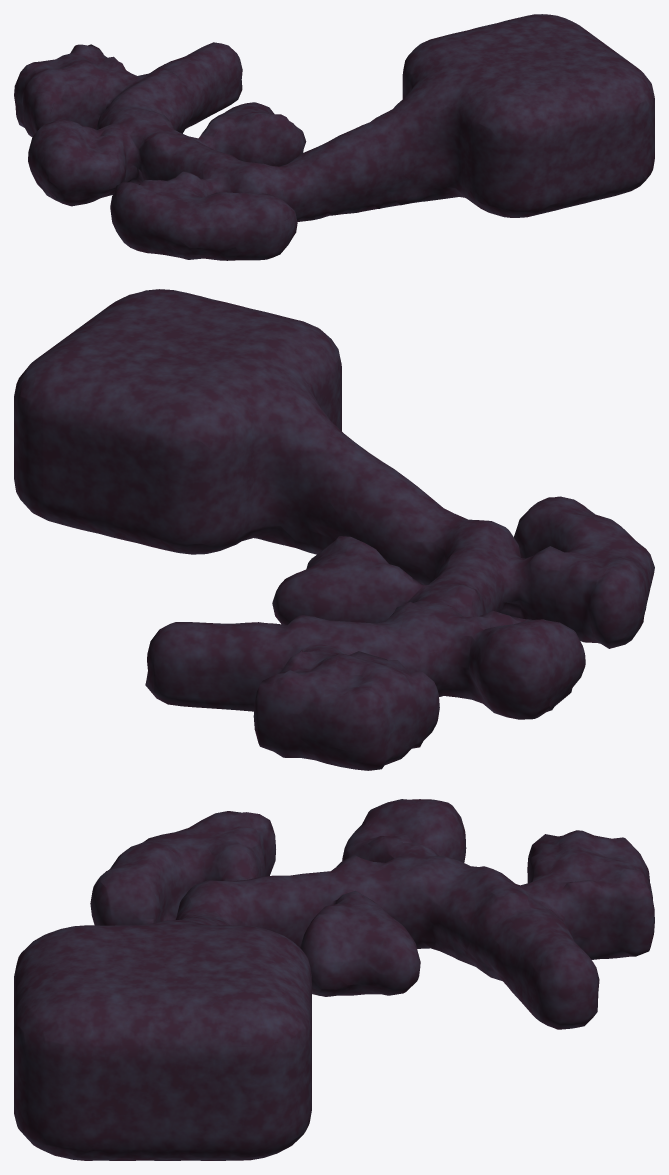
Rendered from Cave3.fbx.
3 renders of one model, top to bottom at view 1: azimuth 30°, elevation 25°; view 2: azimuth 150°, elevation 25°; view 3: azimuth 270°, elevation 25°, orthographic. The views are drawn at different scales.
Visible parts, largest first — view 1: Mball.337; view 2: Mball.337; view 3: Mball.337.
Boxes of the visible parts, box(x1,y1,x2,y2) form: Mball.337: box(14, 14, 654, 260); Mball.337: box(14, 289, 654, 770); Mball.337: box(14, 799, 654, 1160).
Bounding box in the file's own units: 90.78 × 79.82 × 22.31.
